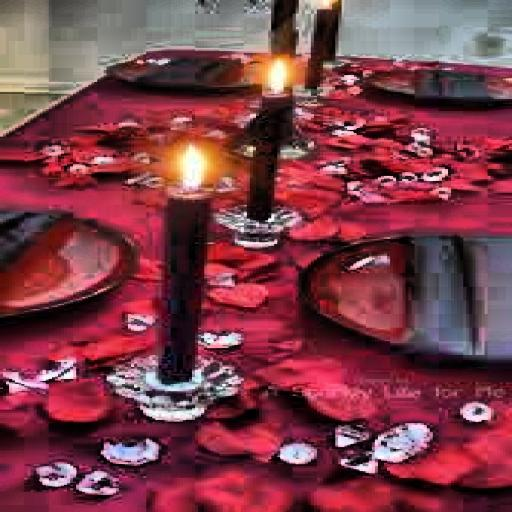fire: (152, 142, 210, 186), (250, 58, 299, 94)
